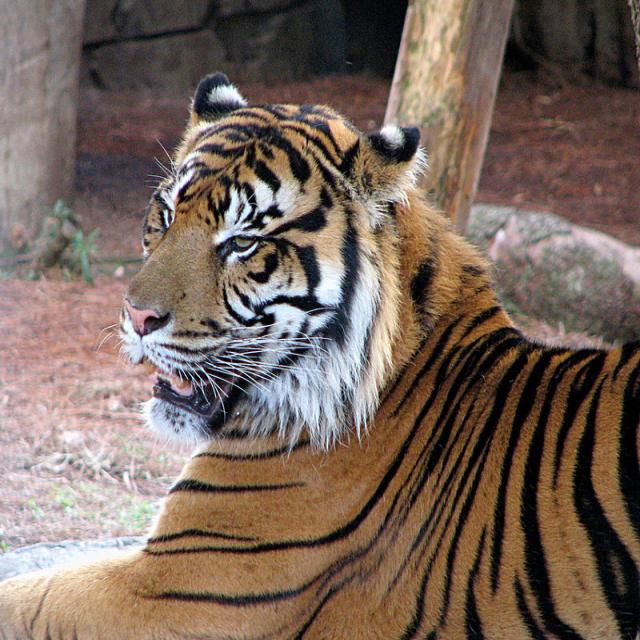Tiger: (0, 69, 638, 639)
